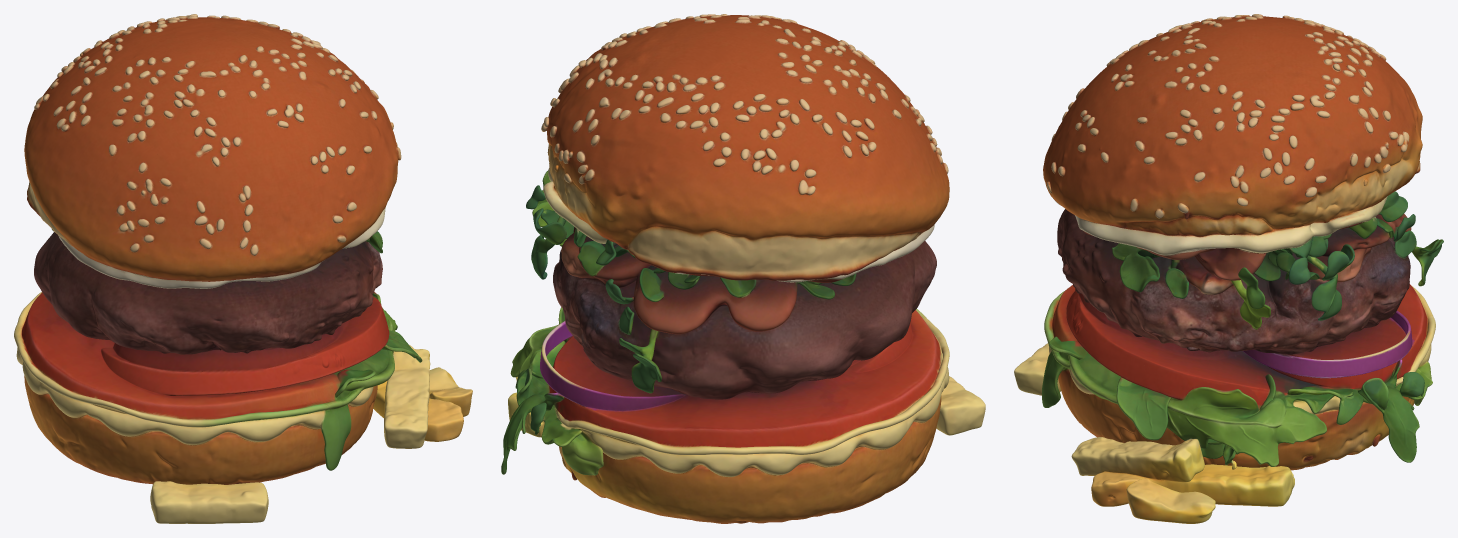
The model's file is burger.glb.
The picture shows the model from 3 angles, left to right: view 1: azimuth 30°, elevation 25°; view 2: azimuth 150°, elevation 25°; view 3: azimuth 270°, elevation 25°; orthographic projection. The views are drawn at different scales.
Visible parts, largest first — view 1: tripo_node_79ab8368-09f6-42e6-aa5e-fa814ce20351; view 2: tripo_node_79ab8368-09f6-42e6-aa5e-fa814ce20351; view 3: tripo_node_79ab8368-09f6-42e6-aa5e-fa814ce20351.
Boxes of the visible parts, left/top/right/bottom form: tripo_node_79ab8368-09f6-42e6-aa5e-fa814ce20351: left=14, top=14, right=472, bottom=523; tripo_node_79ab8368-09f6-42e6-aa5e-fa814ce20351: left=501, top=14, right=985, bottom=523; tripo_node_79ab8368-09f6-42e6-aa5e-fa814ce20351: left=1014, top=14, right=1443, bottom=523.
Size of the model in its own units: 1 by 0.9465 by 0.9612.
1 material, 1 textured.
